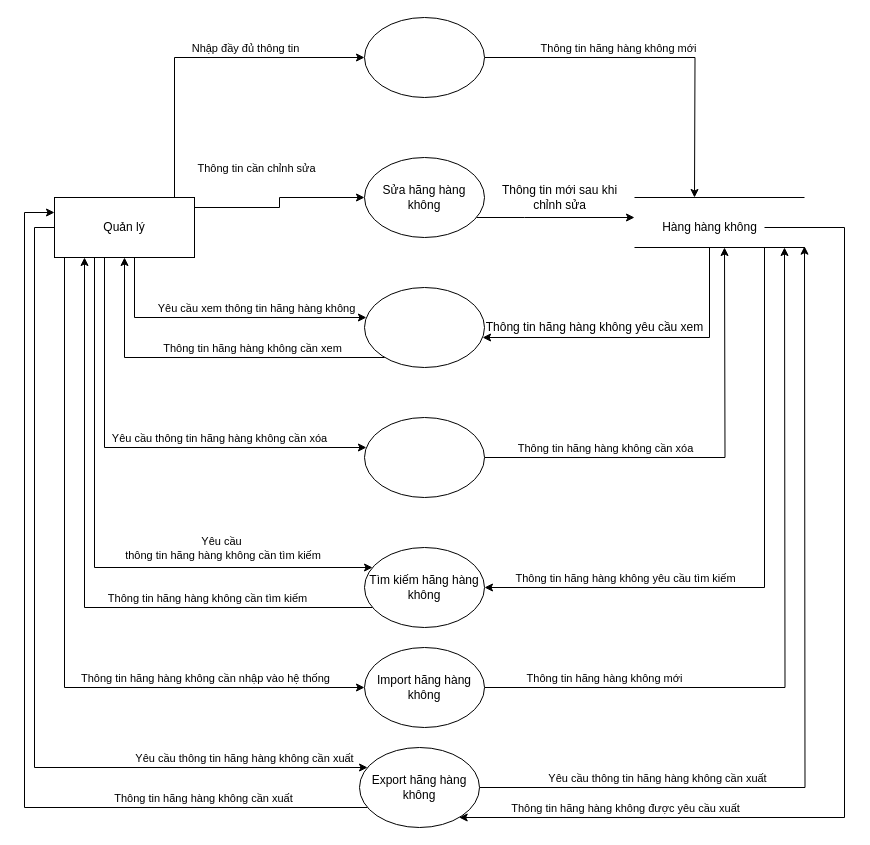
Image size: 870x845. Some labels were removed from this diagram. Each missing label, with the centre of its shape:
"Thêm hãng hàng không" belongs at [424,57].
"Xem hãng hàng không" belongs at [424,327].
"Xóa hãng hàng không" belongs at [424,457].
